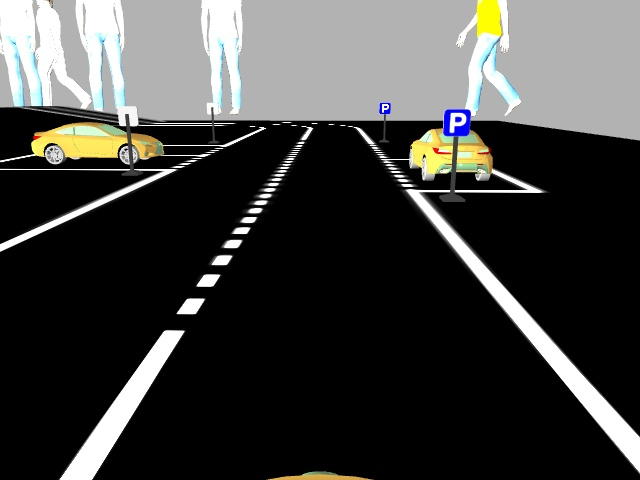Parking: (442, 108, 470, 137), (377, 100, 390, 114)
